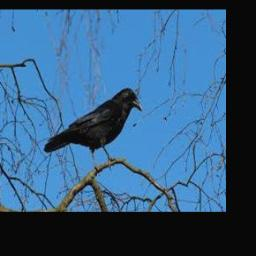Crow: (44, 87, 143, 171)
